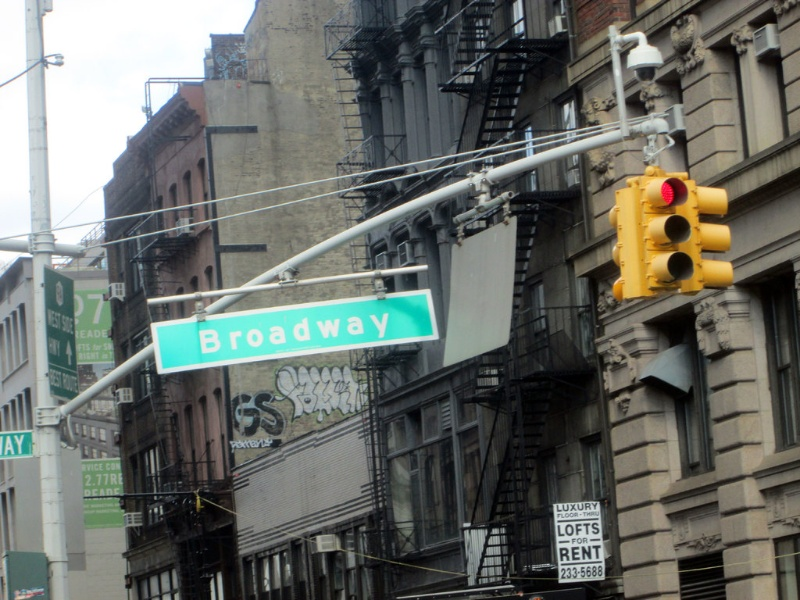broadway: (134, 294, 451, 370)
red_light: (625, 169, 717, 212)
